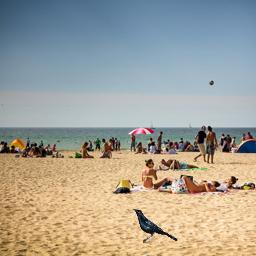Crow: (133, 209, 178, 243)
